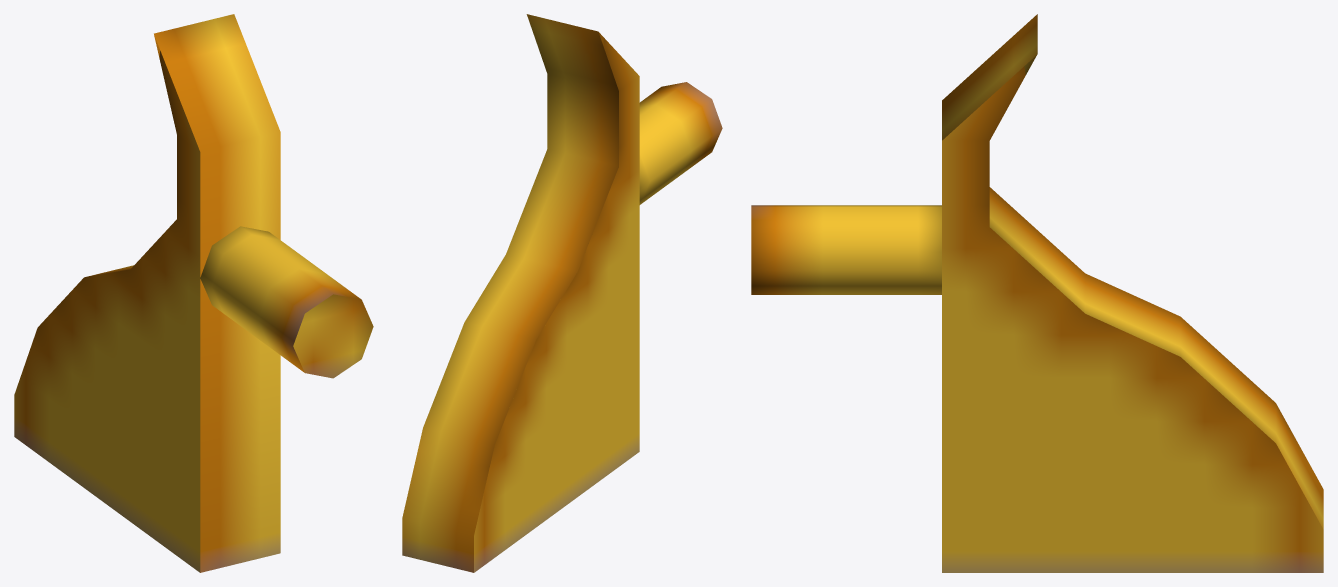
The model's file is henry_hammer_lincoln.obj.
The picture shows the model from 3 angles, left to right: view 1: azimuth 30°, elevation 25°; view 2: azimuth 150°, elevation 25°; view 3: azimuth 270°, elevation 25°; orthographic projection. The views are drawn at different scales.
Visible parts, largest first — view 1: Hammer; view 2: Hammer; view 3: Hammer.
Boxes of the visible parts, x1,y1,x2,y2 form: Hammer: (14,14,373,572); Hammer: (402,14,722,572); Hammer: (751,14,1323,572).
Size of the model in its own units: 0.125 by 0.75 by 0.75.
